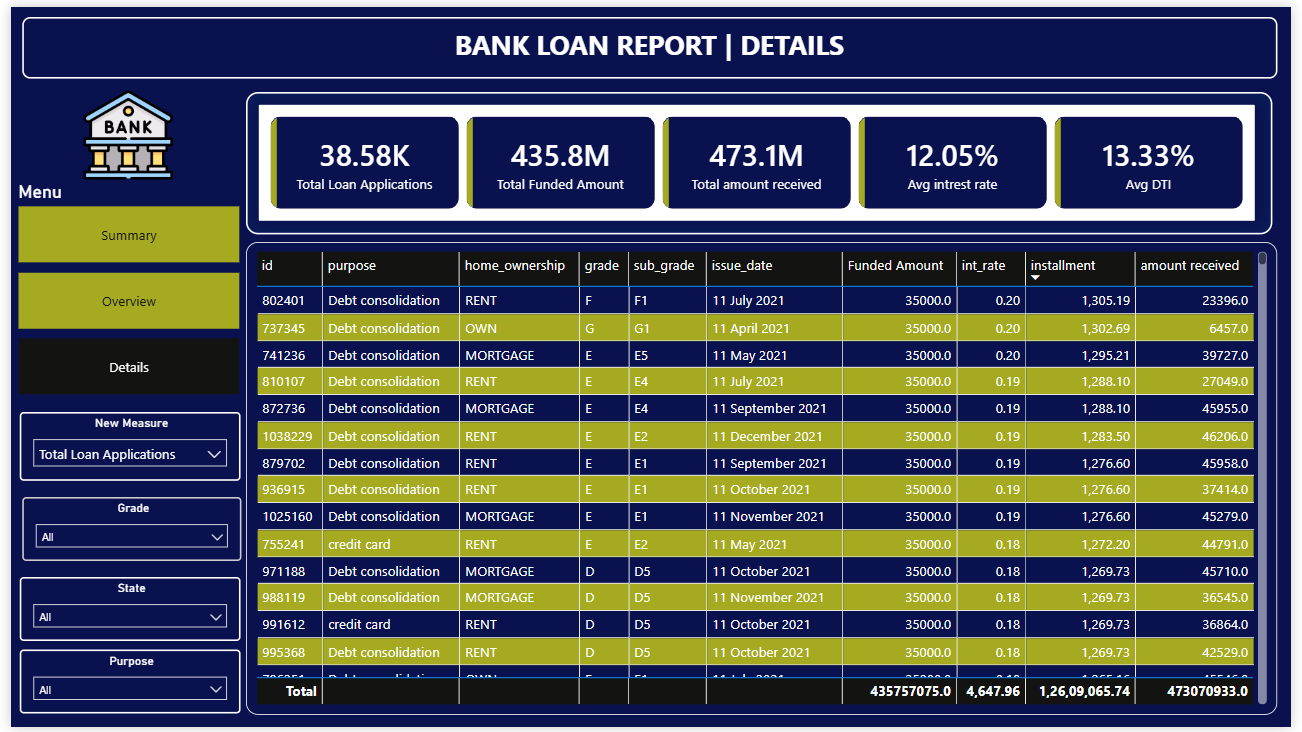

The dashboard page shown, as its layout file describes it:
{"tool":"powerbi","page":{"name":"Details","canvas":[1280,720],"ordinal":2},"visuals":[{"type":"tableEx","fields":{"Values":["public bank_loan_data.id","public bank_loan_data.purpose","public bank_loan_data.home_ownership","public bank_loan_data.grade","public bank_loan_data.sub_grade","public bank_loan_data.issue_date","public bank_loan_data.Total Funded Amount","Sum(public bank_loan_data.int_rate)","Sum(public bank_loan_data.installment)","public bank_loan_data.Total amount received"]},"box":[235,235,1031.2,472.5],"z":0},{"type":"pageNavigator","title":"Menu","box":[7.2,173.7,222,216],"z":1000},{"type":"cardVisual","fields":{"Data":["public bank_loan_data.Total Loan Applications","public bank_loan_data.Total Funded Amount","public bank_loan_data.Total amount received","public bank_loan_data.Avg intrest rate","public bank_loan_data.Avg DTI"]},"box":[235.3,84.5,1026.7,142.4],"z":2000},{"type":"slicer","title":"State","fields":{"Values":["public bank_loan_data.address_state"]},"box":[8.4,569.4,220.8,63.9],"z":3000},{"type":"slicer","title":"New Measure","fields":{"Values":["New Measure.New Measure"]},"box":[8.4,405.4,220.8,68.8],"z":4000},{"type":"slicer","title":"Grade","fields":{"Values":["public bank_loan_data.grade"]},"box":[10.9,489.8,219.6,63.9],"z":5000},{"type":"slicer","title":"Purpose","fields":{"Values":["public bank_loan_data.purpose"]},"box":[8.4,643,220.8,63.9],"z":6000},{"type":"textbox","box":[11.2,10,1255,61.2],"z":7000},{"type":"image","box":[21.2,82.5,192.5,91.2],"z":7001}]}

Visuals, with their boxes in screenshot pixels (x1, y1, x2, y2), scaled from the page's 1280x720 canvas onto the 1302x732 screenshot:
tableEx - public bank_loan_data.id x public bank_loan_data.purpose: (left=239, top=239, right=1288, bottom=719)
"Menu" pageNavigator: (left=7, top=177, right=233, bottom=396)
cardVisual - public bank_loan_data.Total Loan Applications x public bank_loan_data.Total Funded Amount: (left=239, top=86, right=1284, bottom=231)
"State" slicer: (left=9, top=579, right=233, bottom=644)
"New Measure" slicer: (left=9, top=412, right=233, bottom=482)
"Grade" slicer: (left=11, top=498, right=234, bottom=563)
"Purpose" slicer: (left=9, top=654, right=233, bottom=719)
textbox: (left=11, top=10, right=1288, bottom=72)
image: (left=22, top=84, right=217, bottom=177)
